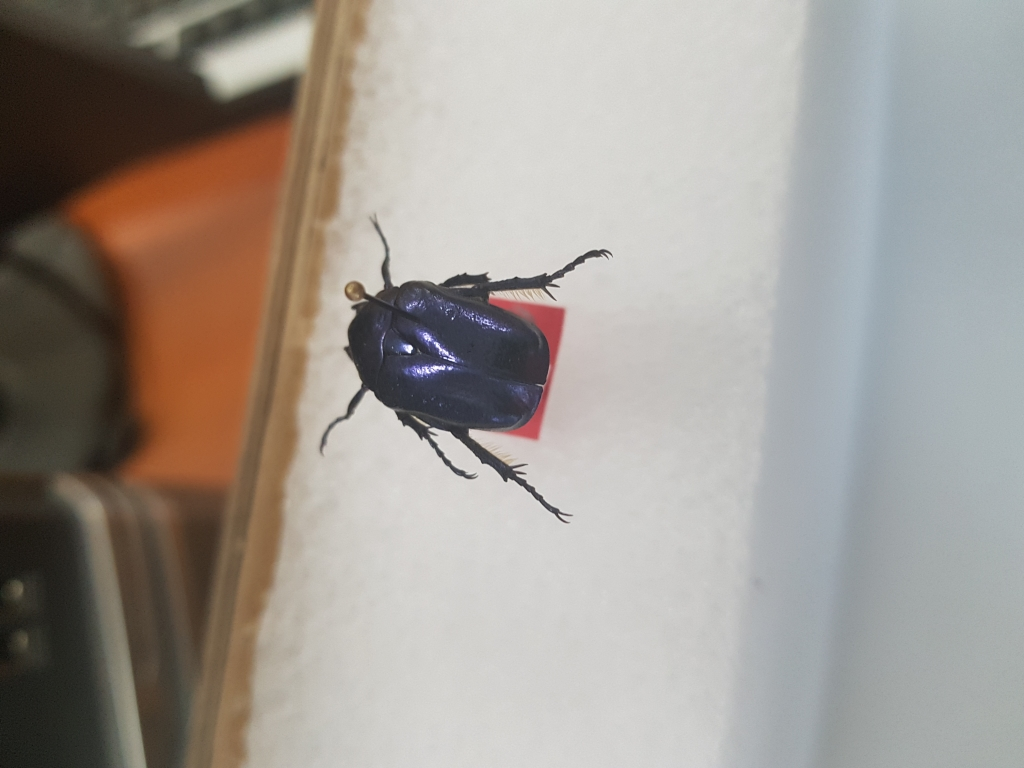Protaetia_besucheti: (305, 210, 631, 534)
